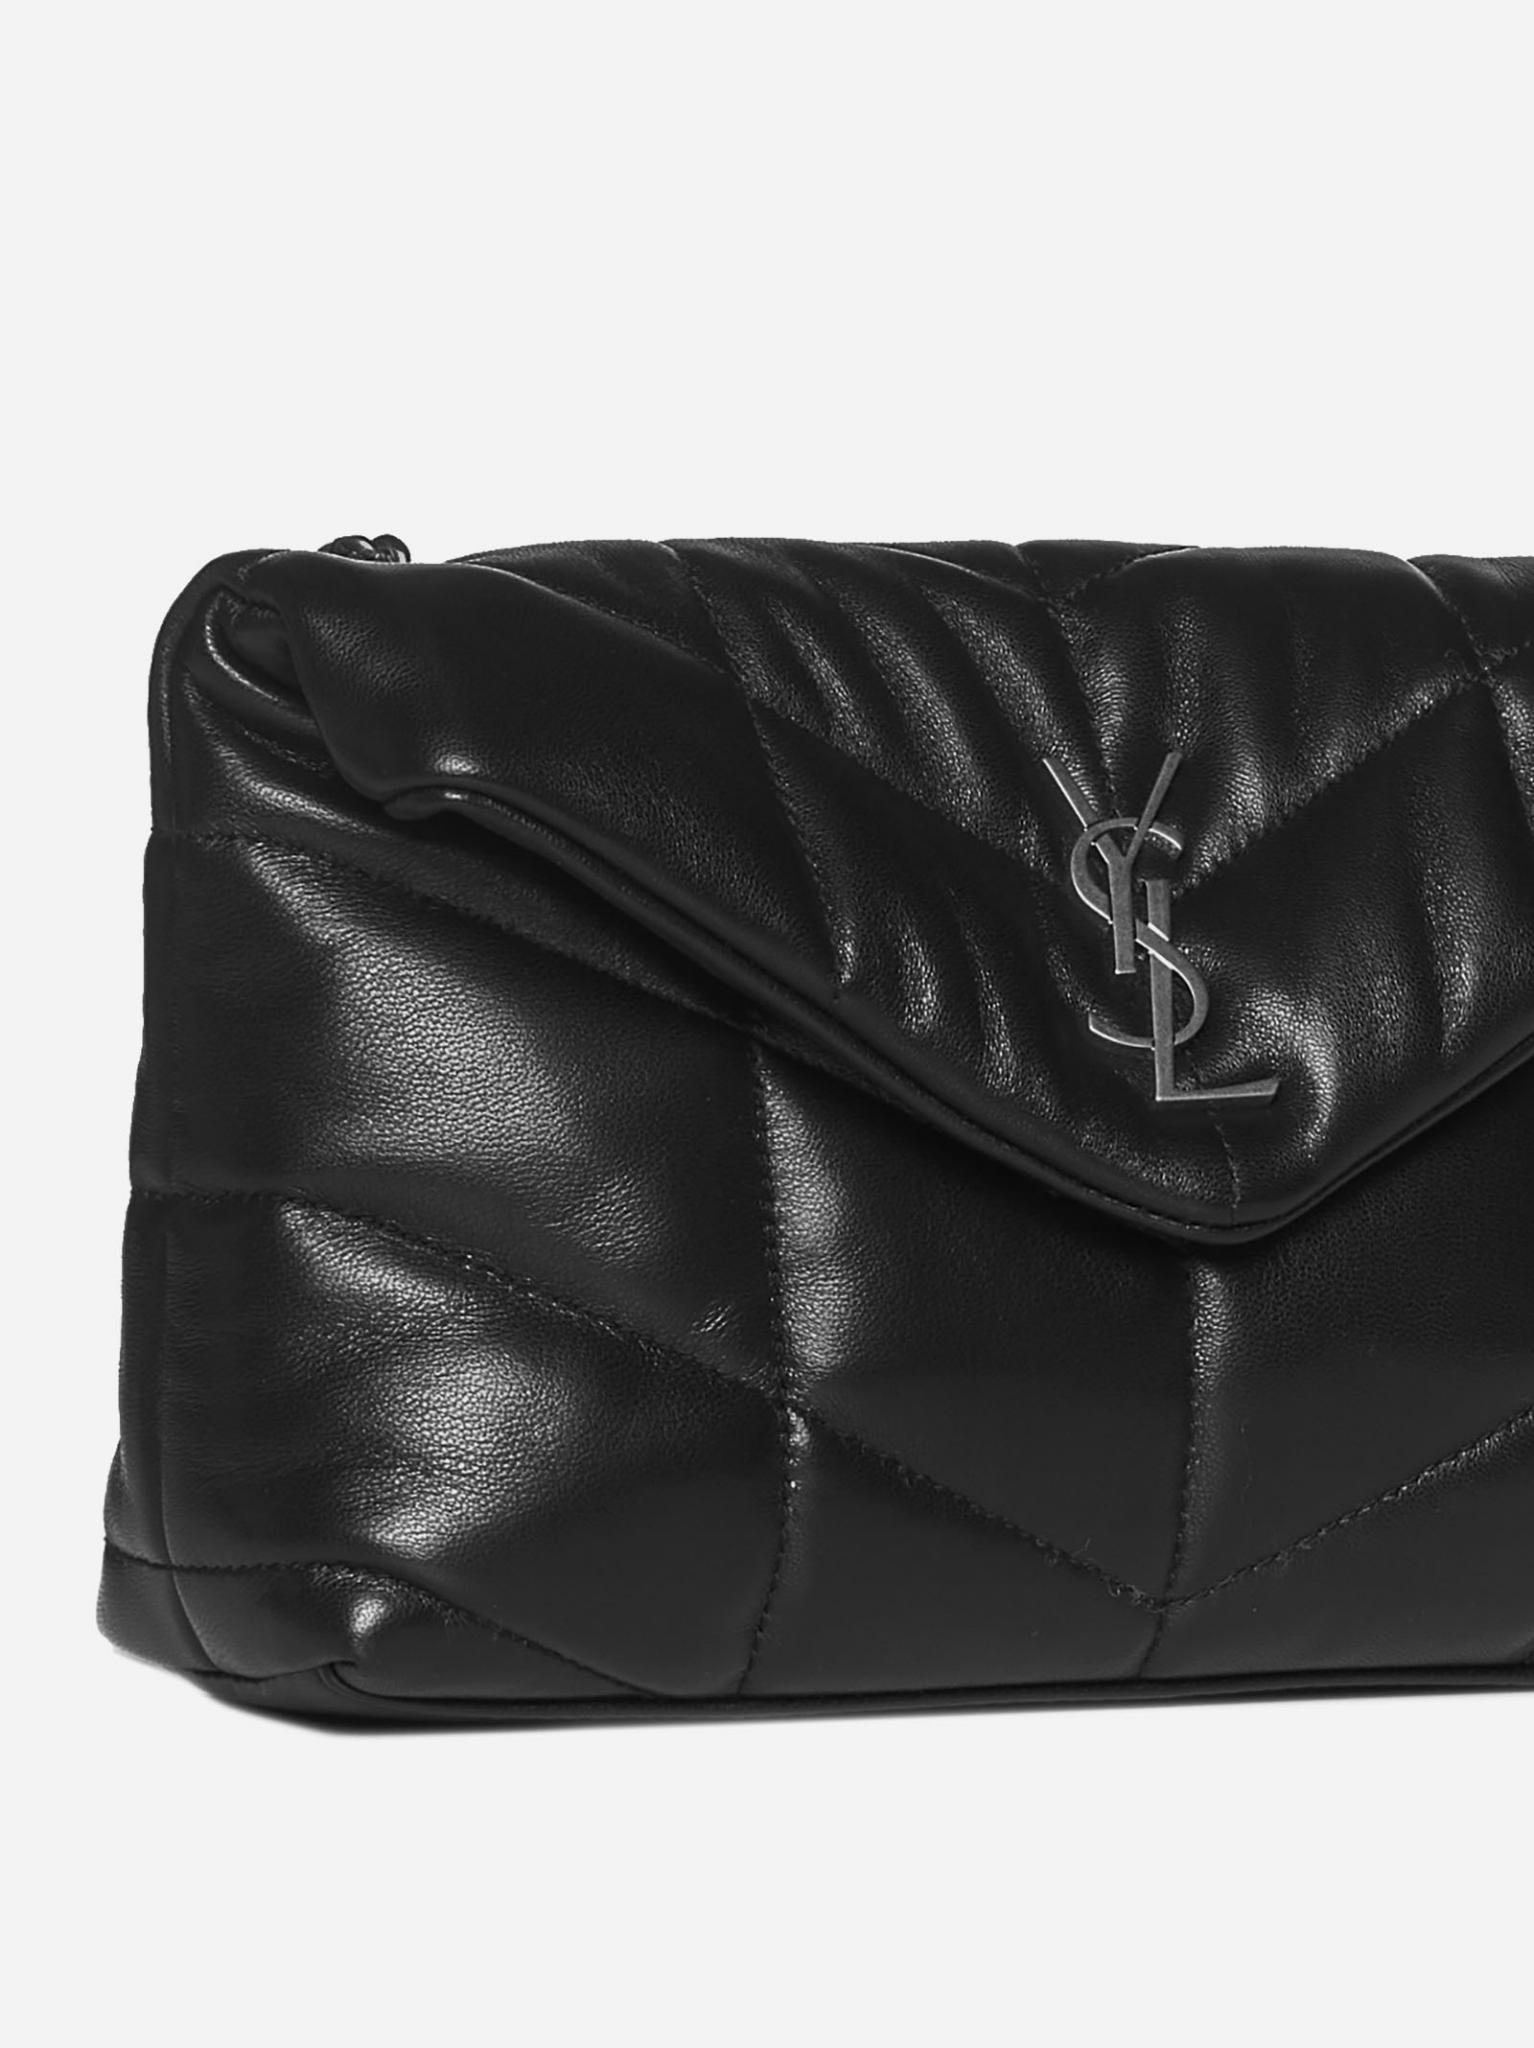YVES-SAINT-LAURENT: (1044, 748, 1284, 1102)
